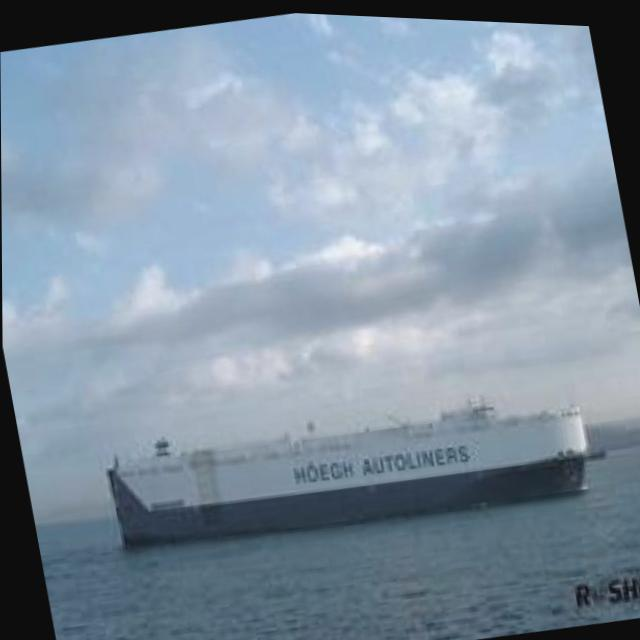ship2: (105, 390, 588, 549)
